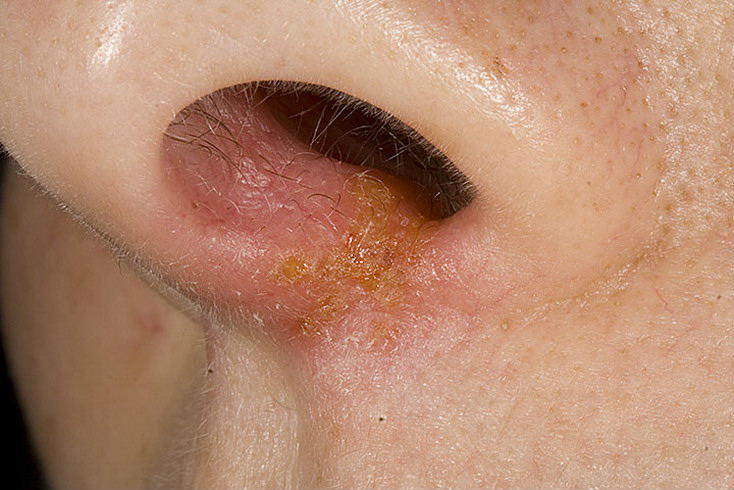Impetigo: (191, 166, 496, 397)
